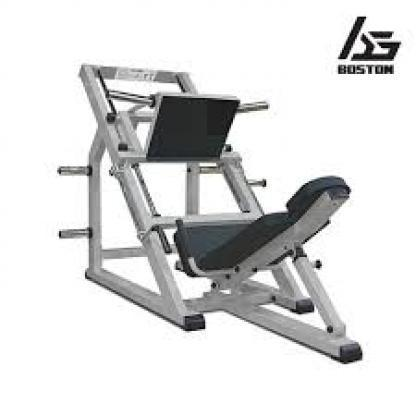leg press: (39, 50, 382, 376)
